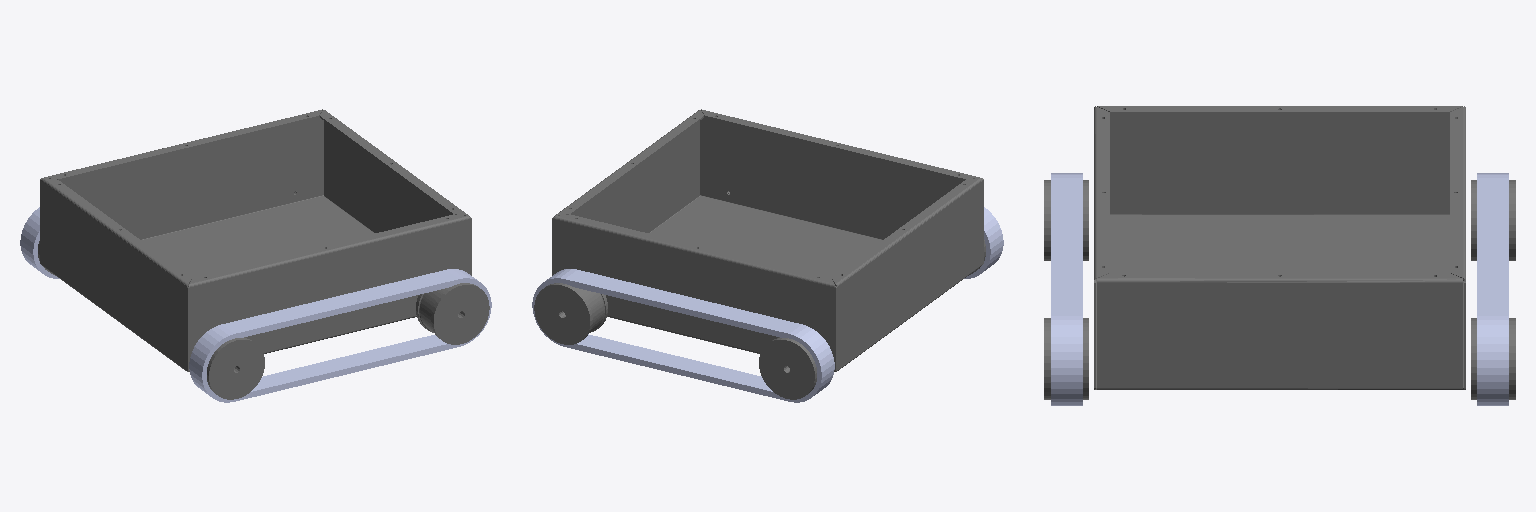
The robot description file, URDF, robot "Assem3":
<?xml version="1.0" encoding="utf-8"?>
<!-- This URDF was automatically created by SolidWorks to URDF Exporter! Originally created by [author] ([email redacted]) 
     Commit Version: 1.6.0-4-g7f85cfe  Build Version: 1.6.7995.38578
     For more information, please see http://wiki.ros.org/sw_urdf_exporter -->
<robot
  name="Assem3">
  <link
    name="base_link">
    <inertial>
      <origin
        xyz="0.194218845445252 0.190414379691839 0.418143292486196"
        rpy="0 0 0" />
      <mass
        value="1.93386825327553" />
      <inertia
        ixx="0.0582810981679376"
        ixy="2.44171468025928E-08"
        ixz="-8.3560127866099E-08"
        iyy="0.115543260081691"
        iyz="-1.40715696672345E-07"
        izz="0.0681748096590286" />
    </inertial>
    <visual>
      <origin
        xyz="0 0 0"
        rpy="0 0 0" />
      <geometry>
        <mesh
          filename="package://Assem3/meshes/base_link.STL" />
      </geometry>
      <material
        name="">
        <color
          rgba="0.501960784313725 0.501960784313725 0.501960784313725 0.35" />
      </material>
    </visual>
    <collision>
      <origin
        xyz="0 0 0"
        rpy="0 0 0" />
      <geometry>
        <mesh
          filename="package://Assem3/meshes/base_link.STL" />
      </geometry>
    </collision>
  </link>
  <link
    name="right_wheel">
    <inertial>
      <origin
        xyz="-0.0274984743709022 -0.100150664541079 -0.173118007128029"
        rpy="0 0 0" />
      <mass
        value="0.797961263242695" />
      <inertia
        ixx="0.000951577165629216"
        ixy="-1.3981644612373E-20"
        ixz="8.41366114249754E-21"
        iyy="0.000683436793309796"
        iyz="-1.62630325872826E-19"
        izz="0.000683436793309796" />
    </inertial>
    <visual>
      <origin
        xyz="0 0 0"
        rpy="0 0 0" />
      <geometry>
        <mesh
          filename="package://Assem3/meshes/right_wheel.STL" />
      </geometry>
      <material
        name="">
        <color
          rgba="0.501960784313725 0.501960784313725 0.501960784313725 1" />
      </material>
    </visual>
    <collision>
      <origin
        xyz="0 0 0"
        rpy="0 0 0" />
      <geometry>
        <mesh
          filename="package://Assem3/meshes/right_wheel.STL" />
      </geometry>
    </collision>
  </link>
  <joint
    name="right_wheel"
    type="continuous">
    <origin
      xyz="0.39422 -0.13015 0.16064"
      rpy="2.0953 0 1.5708" />
    <parent
      link="base_link" />
    <child
      link="right_wheel" />
    <axis
      xyz="1 0 0" />
  </joint>
  <link
    name="r_belt">
    <inertial>
      <origin
        xyz="0.0741916737109046 0.02 0"
        rpy="0 0 0" />
      <mass
        value="0.452700873687633" />
      <inertia
        ixx="0.00114176874593011"
        ixy="4.07987536260826E-20"
        ixz="-5.91163563202387E-19"
        iyy="0.0126322943397155"
        iyz="7.87099730643514E-21"
        izz="0.0116112458267688" />
    </inertial>
    <visual>
      <origin
        xyz="0 0 0"
        rpy="0 0 0" />
      <geometry>
        <mesh
          filename="package://Assem3/meshes/r_belt.STL" />
      </geometry>
      <material
        name="">
        <color
          rgba="0.792156862745098 0.819607843137255 0.933333333333333 1" />
      </material>
    </visual>
    <collision>
      <origin
        xyz="0 0 0"
        rpy="0 0 0" />
      <geometry>
        <mesh
          filename="package://Assem3/meshes/r_belt.STL" />
      </geometry>
    </collision>
  </link>
  <joint
    name="r_belt"
    type="fixed">
    <origin
      xyz="-0.0475 -0.1373 -0.23734"
      rpy="3.1416 -1.0463 1.5708" />
    <parent
      link="right_wheel" />
    <child
      link="r_belt" />
    <axis
      xyz="0 0 0" />
  </joint>
  <link
    name="left_wheel">
    <inertial>
      <origin
        xyz="0.0275015256290975 0.100150664541077 -0.17311800712803"
        rpy="0 0 0" />
      <mass
        value="0.797961263242694" />
      <inertia
        ixx="0.000951577165629215"
        ixy="1.04113049674265E-20"
        ixz="-2.36595575318155E-20"
        iyy="0.000683436793309794"
        iyz="-5.42101086242752E-20"
        izz="0.000683436793309794" />
    </inertial>
    <visual>
      <origin
        xyz="0 0 0"
        rpy="0 0 0" />
      <geometry>
        <mesh
          filename="package://Assem3/meshes/left_wheel.STL" />
      </geometry>
      <material
        name="">
        <color
          rgba="0.501960784313725 0.501960784313725 0.501960784313725 1" />
      </material>
    </visual>
    <collision>
      <origin
        xyz="0 0 0"
        rpy="0 0 0" />
      <geometry>
        <mesh
          filename="package://Assem3/meshes/left_wheel.STL" />
      </geometry>
    </collision>
  </link>
  <joint
    name="left_wheel"
    type="continuous">
    <origin
      xyz="0.39422 -0.65115 0.16064"
      rpy="-2.0953 0 -1.5708" />
    <parent
      link="base_link" />
    <child
      link="left_wheel" />
    <axis
      xyz="1 0 0" />
  </joint>
  <link
    name="l_belt">
    <inertial>
      <origin
        xyz="0.0741916737109045 0.0200000000000001 0"
        rpy="0 0 0" />
      <mass
        value="0.452700873687634" />
      <inertia
        ixx="0.00114176874593011"
        ixy="2.00817394578207E-20"
        ixz="-3.13108785261176E-18"
        iyy="0.0126322943397155"
        iyz="-1.22910536819234E-19"
        izz="0.0116112458267688" />
    </inertial>
    <visual>
      <origin
        xyz="0 0 0"
        rpy="0 0 0" />
      <geometry>
        <mesh
          filename="package://Assem3/meshes/l_belt.STL" />
      </geometry>
      <material
        name="">
        <color
          rgba="0.792156862745098 0.819607843137255 0.933333333333333 1" />
      </material>
    </visual>
    <collision>
      <origin
        xyz="0 0 0"
        rpy="0 0 0" />
      <geometry>
        <mesh
          filename="package://Assem3/meshes/l_belt.STL" />
      </geometry>
    </collision>
  </link>
  <joint
    name="l_belt"
    type="fixed">
    <origin
      xyz="0.0075 0.1373 -0.23734"
      rpy="0 -1.0463 -1.5708" />
    <parent
      link="left_wheel" />
    <child
      link="l_belt" />
    <axis
      xyz="0 0 0" />
  </joint>
</robot>

--- What the picture shows (computed from the rendered views, not written in the file) ---
Views: 3 orthographic renders of the robot side by side, from view 1: azimuth 30°, elevation 25°; view 2: azimuth 150°, elevation 25°; view 3: azimuth 270°, elevation 25°.
Model Assem3 with 5 links and 4 joints (2 continuous, 2 fixed), rooted at base_link, posed all joints at 0.
Visible links, largest first — view 1: base_link, l_belt, left_wheel, r_belt; view 2: base_link, r_belt, right_wheel, l_belt; view 3: base_link, r_belt, l_belt, right_wheel, left_wheel.
Link boxes in pixels (x1,y1,x2,y2): base_link: (40, 109, 471, 371); l_belt: (189, 269, 491, 402); left_wheel: (207, 283, 489, 399); r_belt: (20, 207, 59, 278); base_link: (552, 109, 983, 371); r_belt: (532, 269, 834, 402); right_wheel: (534, 283, 816, 399); l_belt: (964, 207, 1003, 278); base_link: (1094, 106, 1465, 389); r_belt: (1477, 173, 1508, 405); l_belt: (1051, 173, 1082, 405); right_wheel: (1471, 180, 1515, 399); left_wheel: (1044, 180, 1088, 399).
Bounding box of the posed robot: 0.5152 × 0.576 × 0.1891 m (x, y, z).
Meshes: 5 distinct files referenced, 5 mesh visuals loaded (5 binary STL).